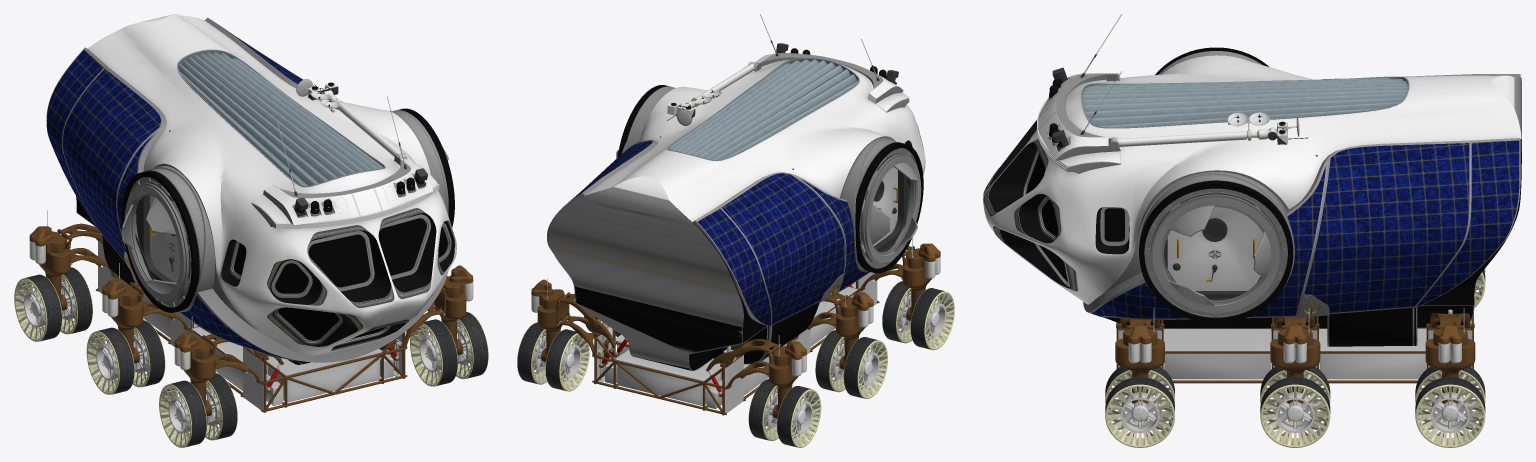
Rendered from sev.glb.
The picture shows the model from 3 angles, left to right: view 1: azimuth 30°, elevation 25°; view 2: azimuth 150°, elevation 25°; view 3: azimuth 270°, elevation 25°; orthographic projection. The views are drawn at different scales.
Visible parts, largest first — view 1: MMSEV; view 2: MMSEV; view 3: MMSEV.
Boxes of the visible parts, x1,y1,x2,y2 form: MMSEV: (14, 14, 488, 447); MMSEV: (517, 14, 954, 447); MMSEV: (983, 14, 1521, 447).
Bounding box in the file's own units: 4.04 × 3.97 × 5.91.
1 material, 1 textured.
